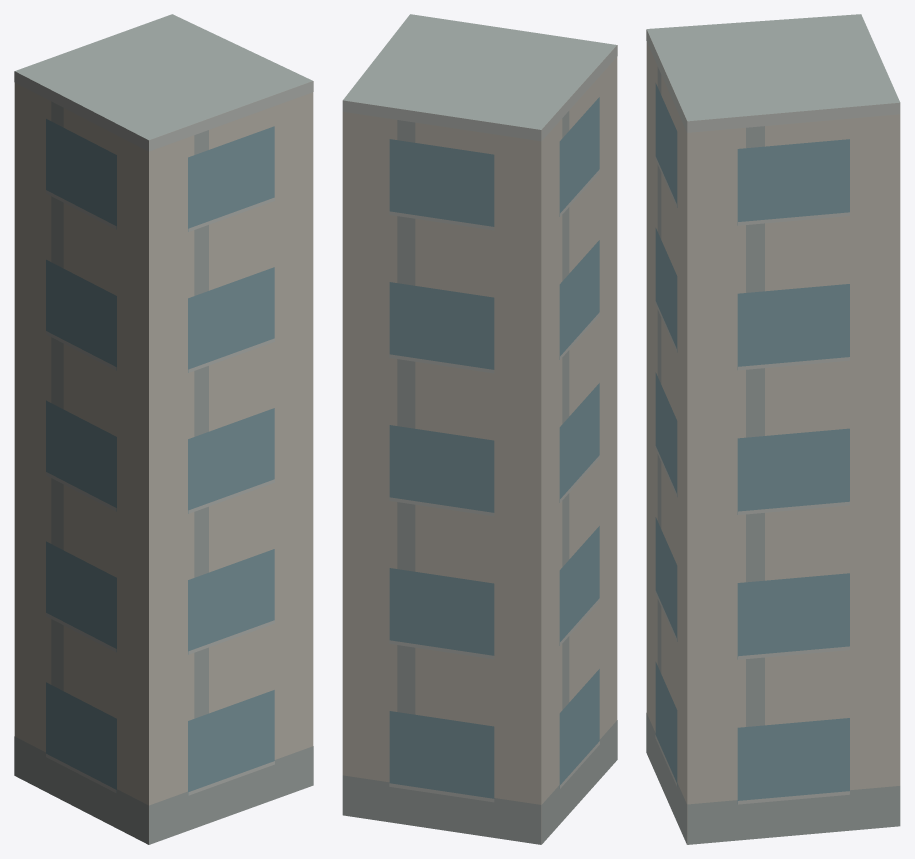
Rendered from survey-upis-32697085.glb.
3 views of the same model, side by side, from view 1: azimuth 30°, elevation 25°; view 2: azimuth 150°, elevation 25°; view 3: azimuth 270°, elevation 25° (orthographic). The views are drawn at different scales.
Parts seen in each view (by area): view 1: survey-upis-32697085.tmp; view 2: survey-upis-32697085.tmp; view 3: survey-upis-32697085.tmp.
Part boxes in pixels (x1,y1,x2,y2): survey-upis-32697085.tmp: [14, 14, 313, 844]; survey-upis-32697085.tmp: [342, 14, 617, 844]; survey-upis-32697085.tmp: [646, 14, 900, 844].
Bounding box in the file's own units: 4.86 × 15.25 × 4.86.
